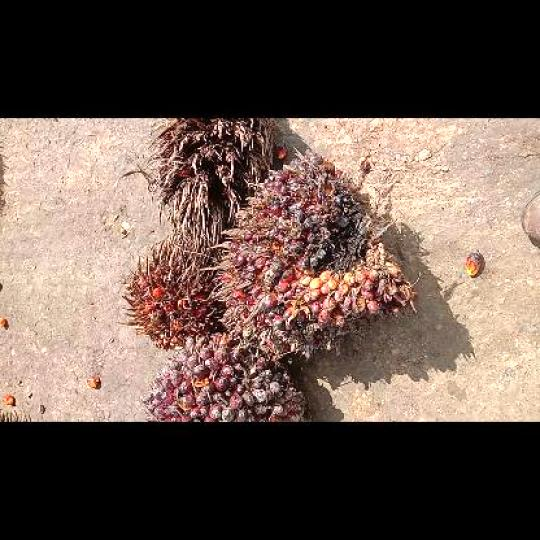kurang masak: (140, 332, 312, 421)
masak: (199, 146, 419, 371)
terlalu masak: (115, 231, 225, 353)
